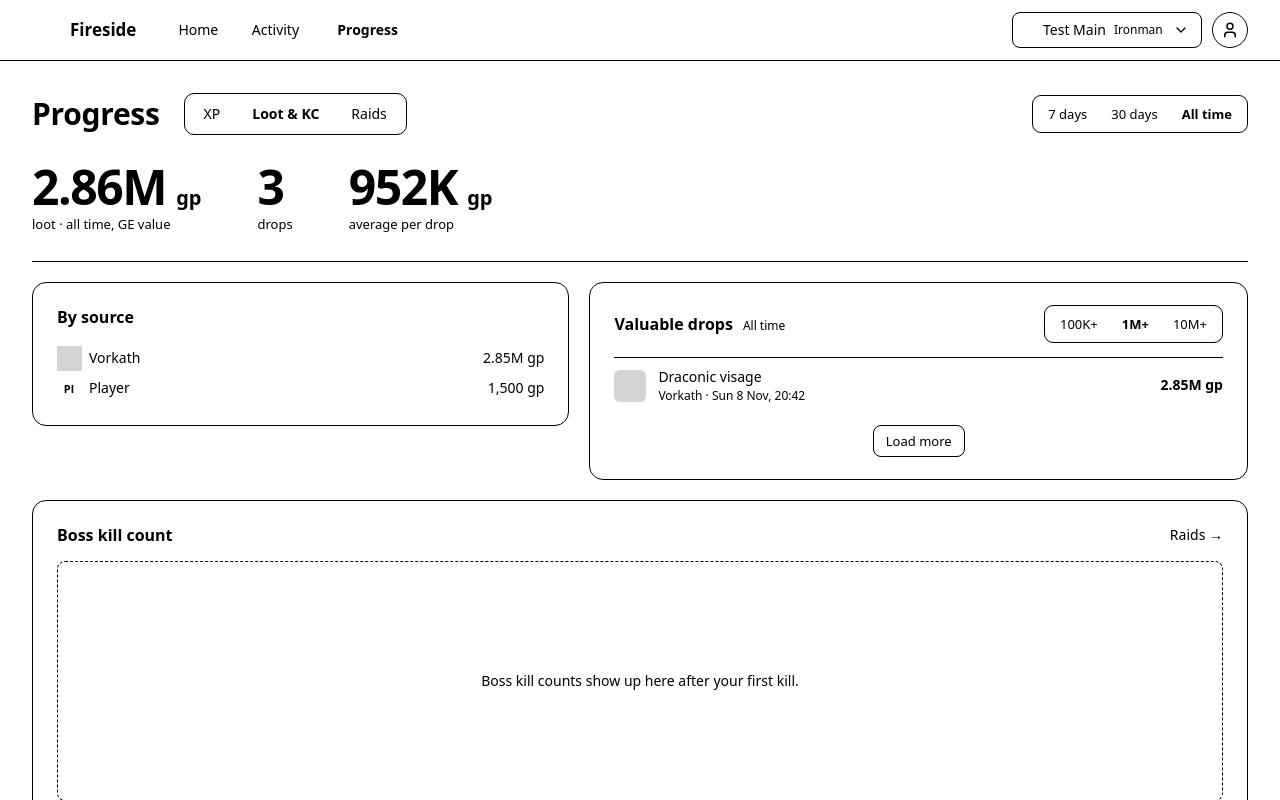
Test: Loot › filters valuable drops by value and says so when there are none
Click the radio button labelled "10M+" at point(1190, 324), box [1161,310,1219,340]
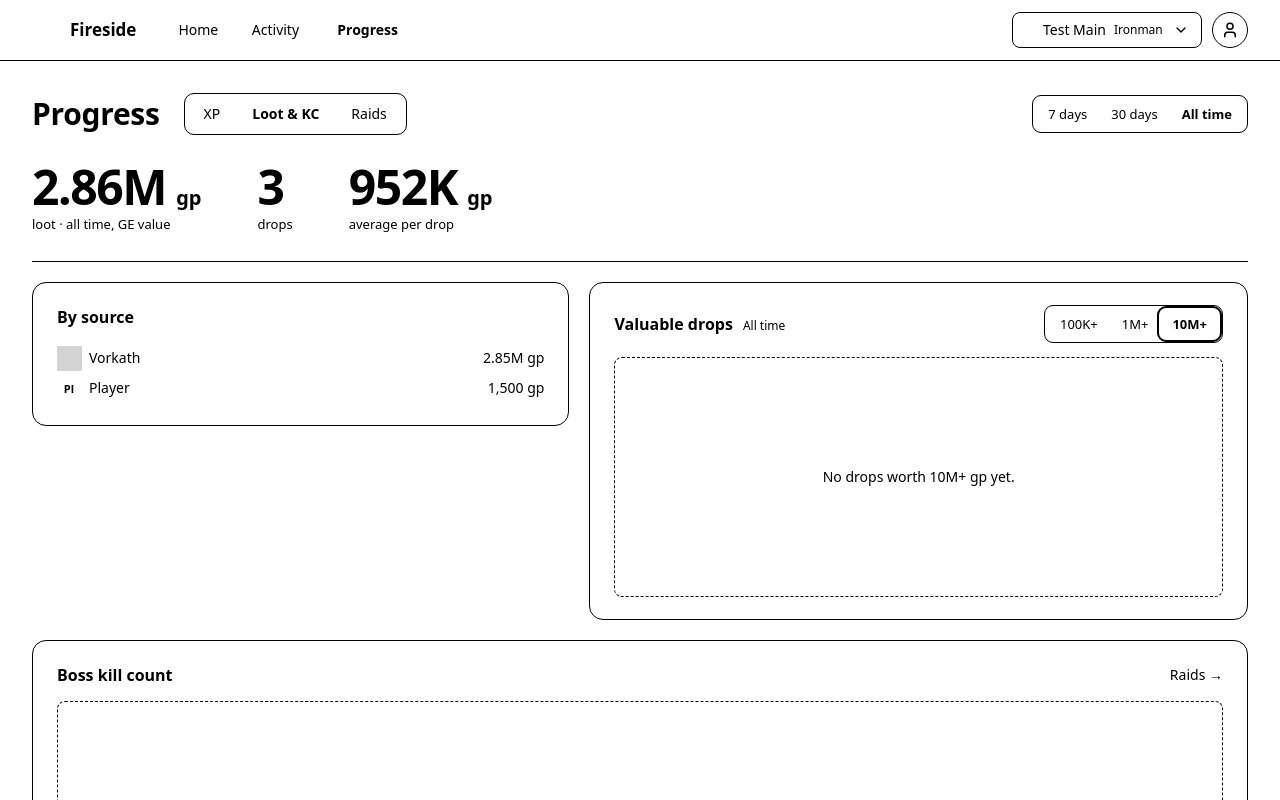
Expected: the text "No drops worth 10M+ gp yet." is shown, [823,467,1015,488]
